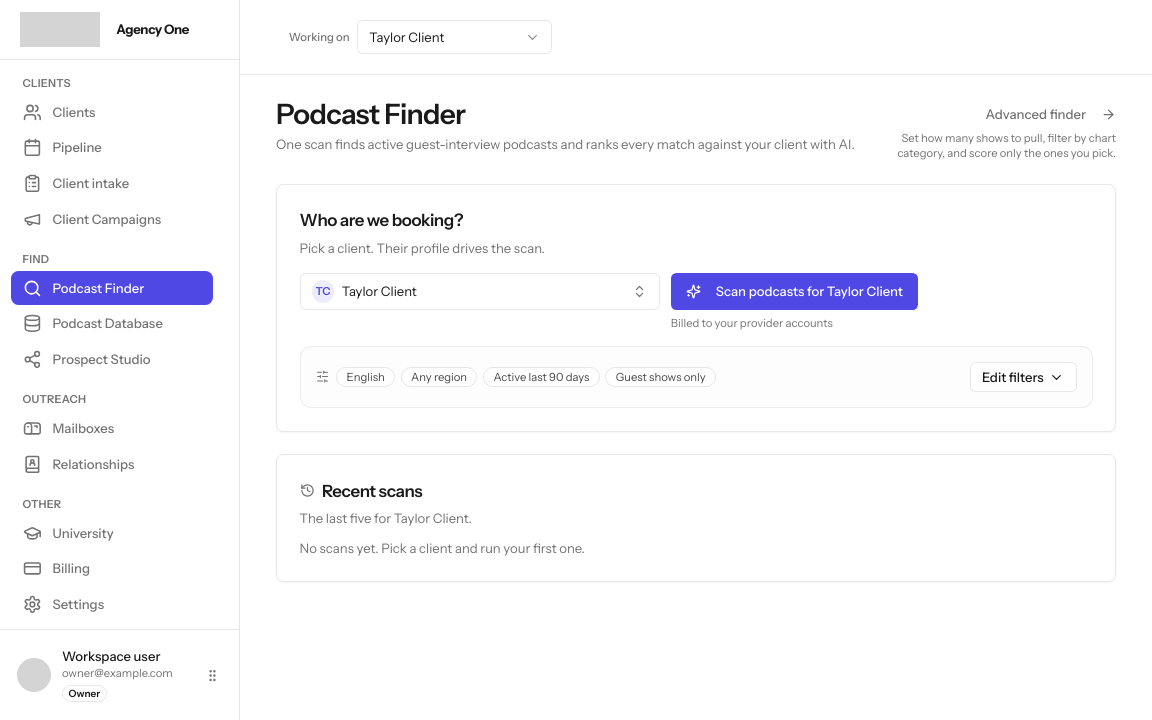
Test case: WorkspaceSmartPodcastFinder › stops on the first 403 and shows the failure panel with the refund, not "nothing new"
Click the button "Scan podcasts for Taylor Client" at (794, 292), box [671, 273, 918, 310]
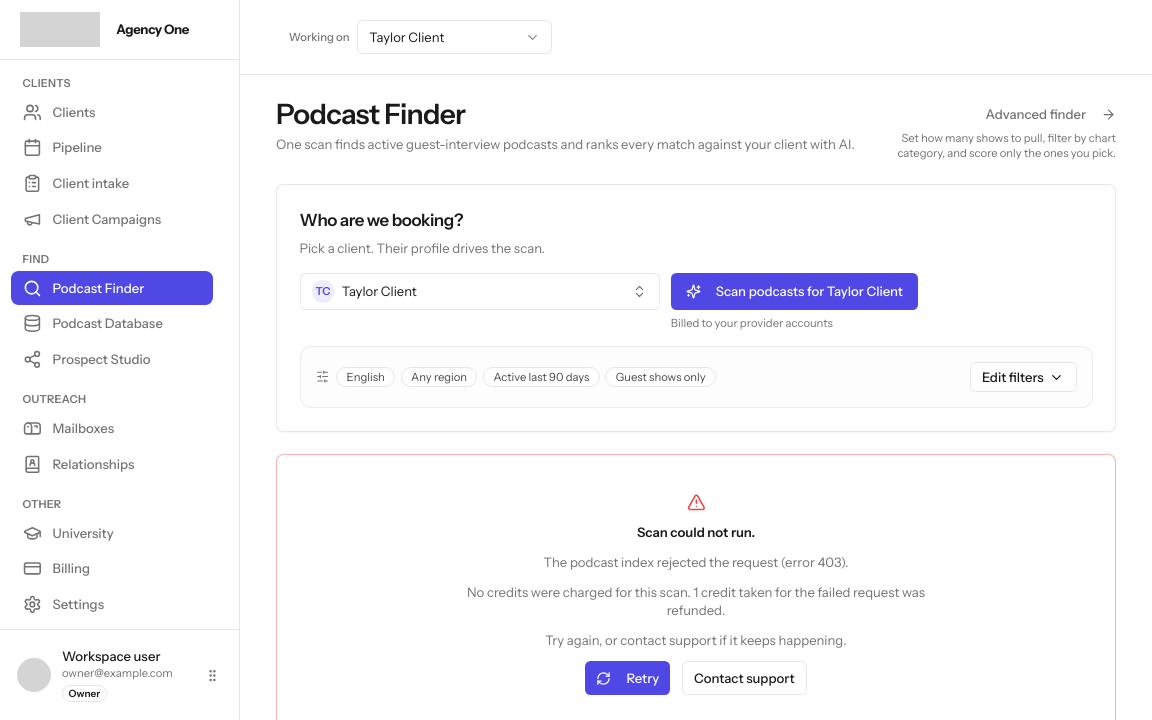
Expected: the message shows "Scan could not run.", [637, 524, 755, 540]
Expected: the message shows "The podcast index rejected the request (error 403).", [544, 554, 848, 570]
Expected: the message shows "1 credit taken for the failed request was refunded.", [467, 584, 925, 618]
